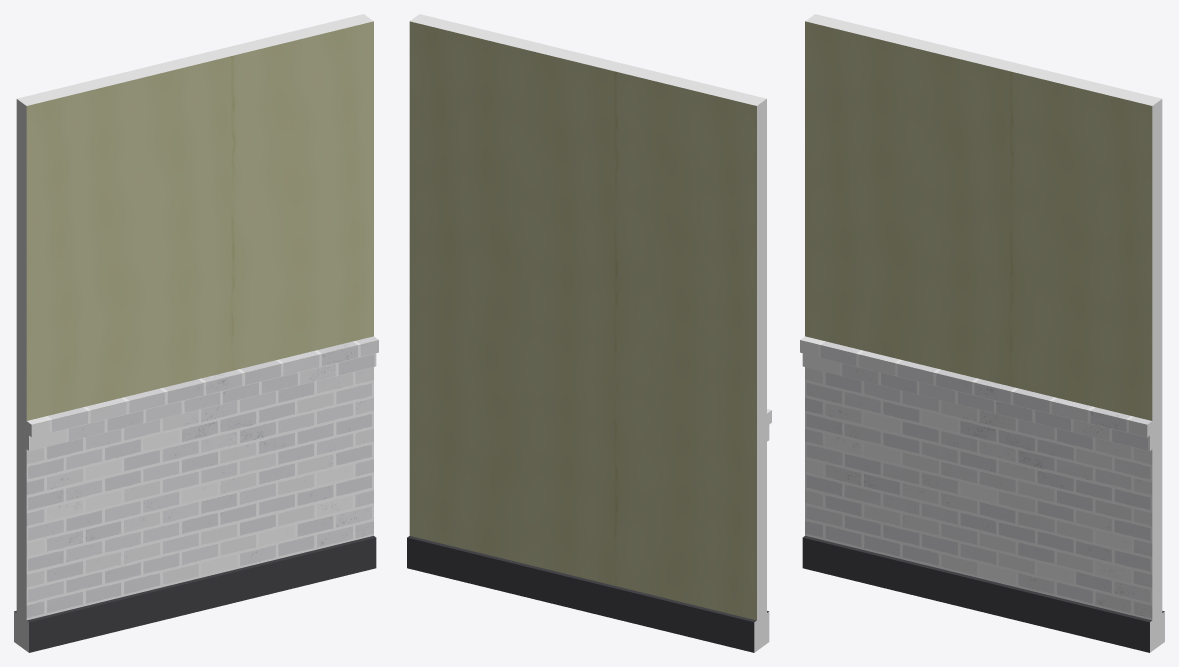
File: SM_Buildings_Wall_2x3_01_WallpaperBack.fbx
3 renders of one model, left to right at view 1: azimuth 30°, elevation 25°; view 2: azimuth 150°, elevation 25°; view 3: azimuth 330°, elevation 25°, orthographic.
Parts seen in each view (by area): view 1: SM_Buildings_Wall_2x3_01_WallpaperBack; view 2: SM_Buildings_Wall_2x3_01_WallpaperBack; view 3: SM_Buildings_Wall_2x3_01_WallpaperBack.
Part boxes in pixels (x1=…): SM_Buildings_Wall_2x3_01_WallpaperBack: x1=14, y1=14, x2=378, y2=652; SM_Buildings_Wall_2x3_01_WallpaperBack: x1=407, y1=14, x2=771, y2=652; SM_Buildings_Wall_2x3_01_WallpaperBack: x1=800, y1=14, x2=1164, y2=652.
Size of the model in its own units: 200 by 300 by 17.5.
Materials: 1 (1 with a texture image).
